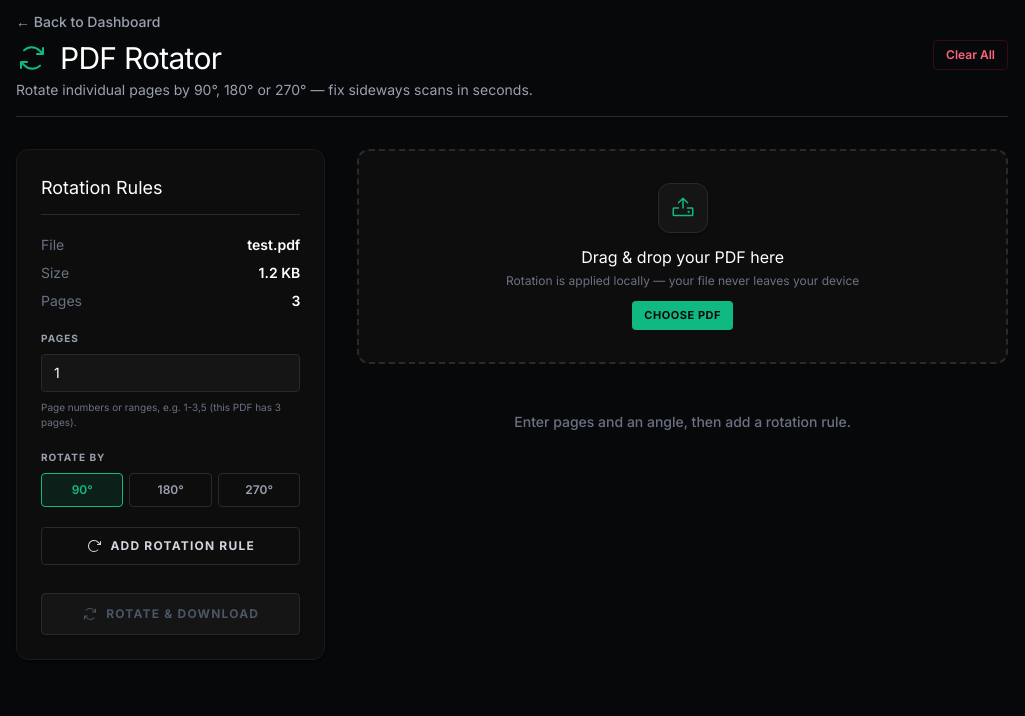
Test: PdfRotator component › rotates selected pages of an uploaded PDF and offers a download
Earlier steps of the test are not shown.
Expected: the text "Page numbers or ranges, e.g. 1-3,5 (this PDF has 3 pages)." is shown, [41, 400, 300, 430]
Replace the text in the field labelled "Pages" with "2-3": (171, 373) [41, 354, 300, 392]
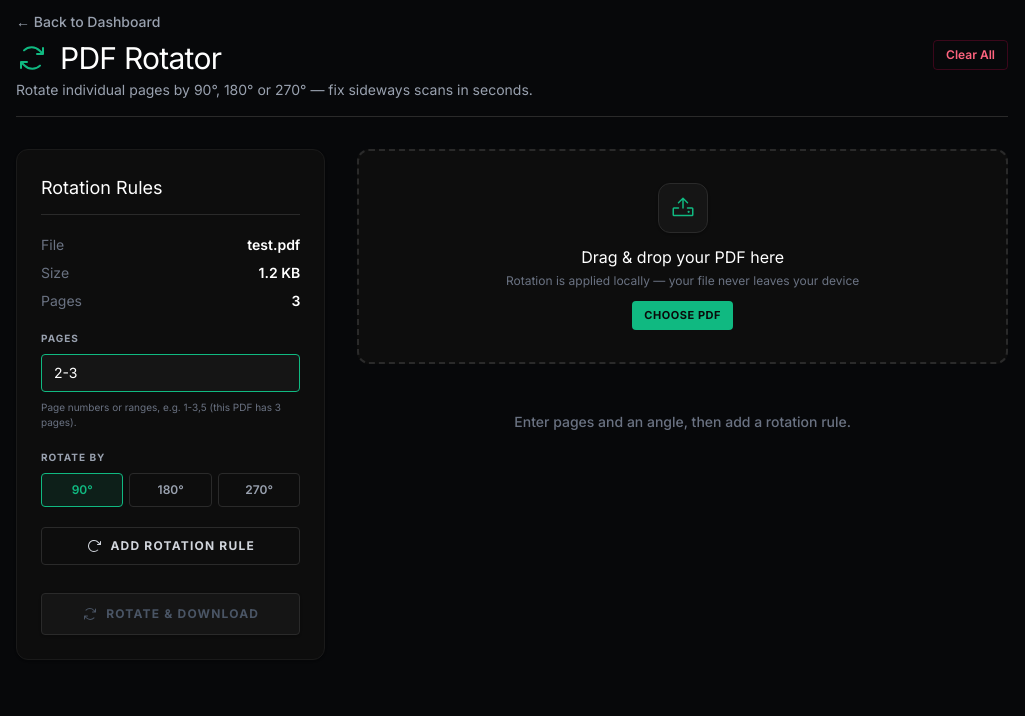
Click the button "180°": (171, 490) [129, 473, 212, 507]
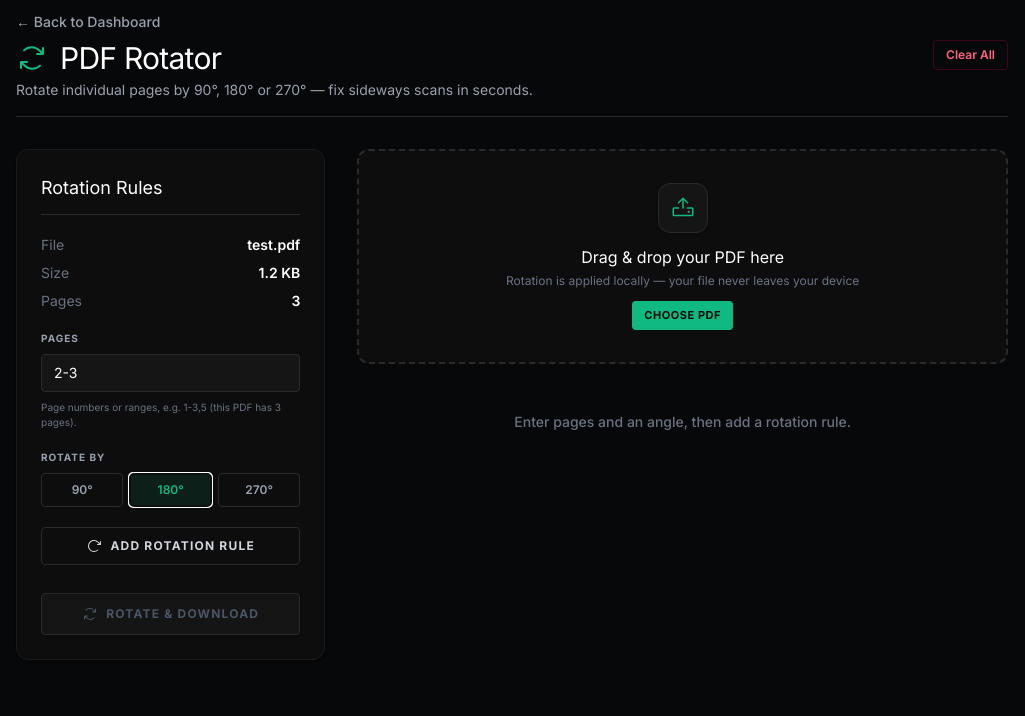
Click the button "Add Rotation Rule": (171, 546) [41, 527, 300, 565]
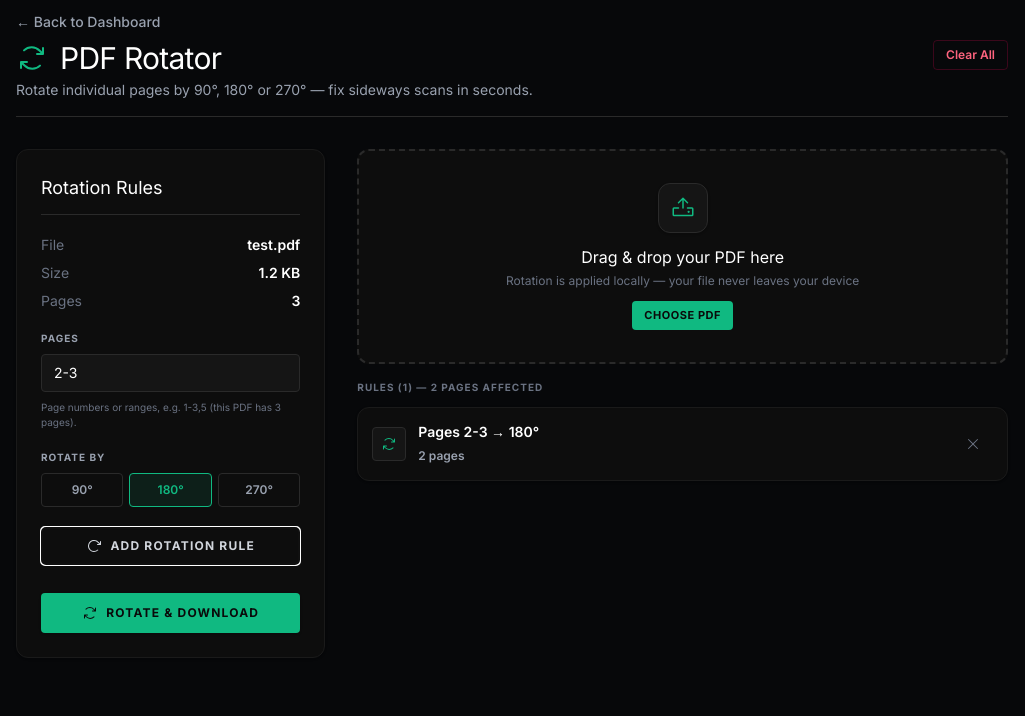
Expected: the heading "Pages 2-3 → 180°" is shown, [418, 422, 539, 442]
Click the button "Rotate & Download": (171, 613) [41, 593, 300, 633]
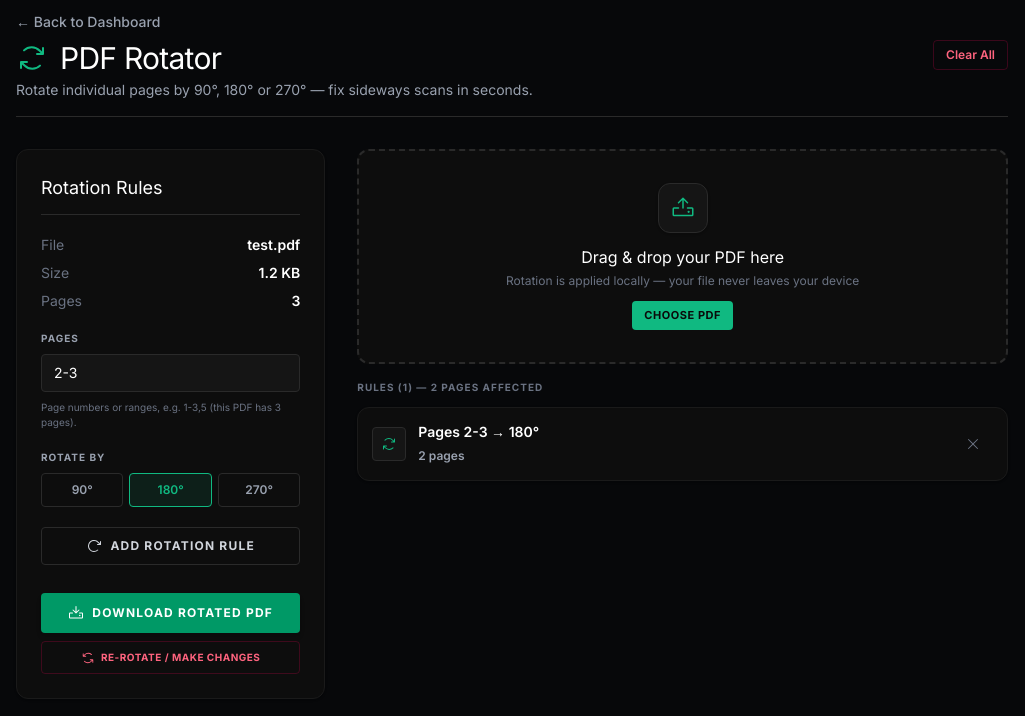
Expected: the button "Download Rotated PDF" is shown, [41, 593, 300, 633]
